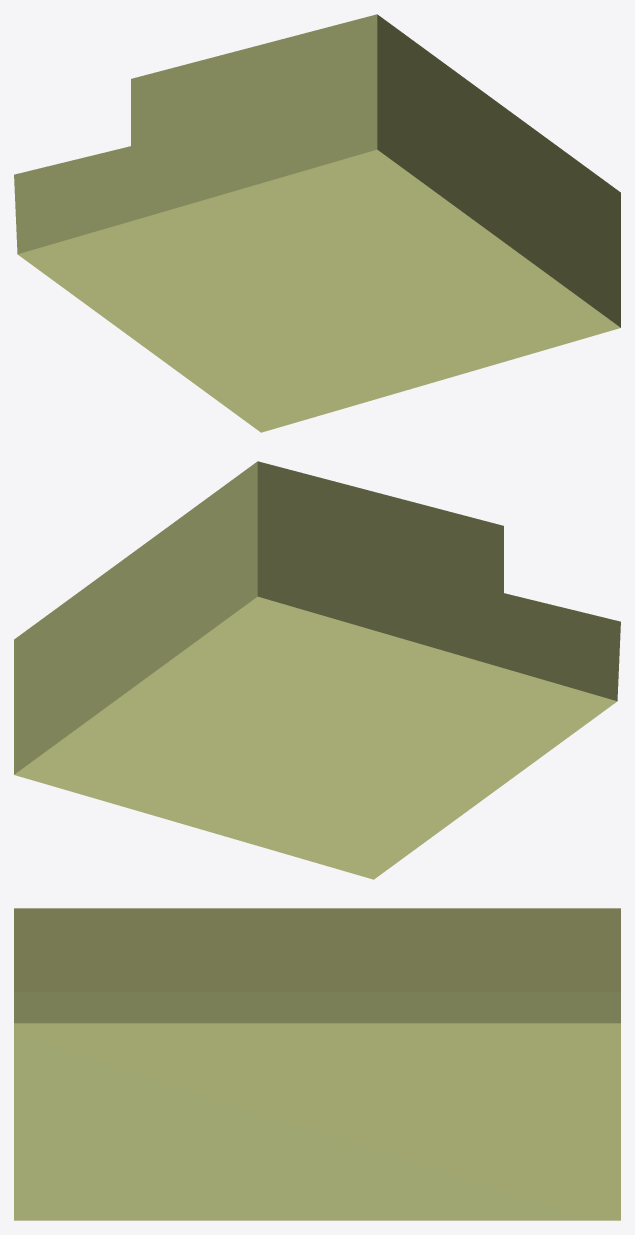
3 views of the same model, one above another, from view 1: azimuth 30°, elevation 25°; view 2: azimuth 150°, elevation 25°; view 3: azimuth 270°, elevation 25° (orthographic). The views are drawn at different scales.
Parts seen in each view (by area): view 1: 0_1_1_3_3_1_0_2_2_2_3_3; view 2: 0_1_1_3_3_1_0_2_2_2_3_3; view 3: 0_1_1_3_3_1_0_2_2_2_3_3.
Part boxes in pixels (x1,y1,x2,y2): 0_1_1_3_3_1_0_2_2_2_3_3: (14, 14, 620, 432); 0_1_1_3_3_1_0_2_2_2_3_3: (14, 461, 620, 879); 0_1_1_3_3_1_0_2_2_2_3_3: (14, 908, 620, 1220).
Bounding box in the file's own units: 5.16 × 2.07 × 6.
